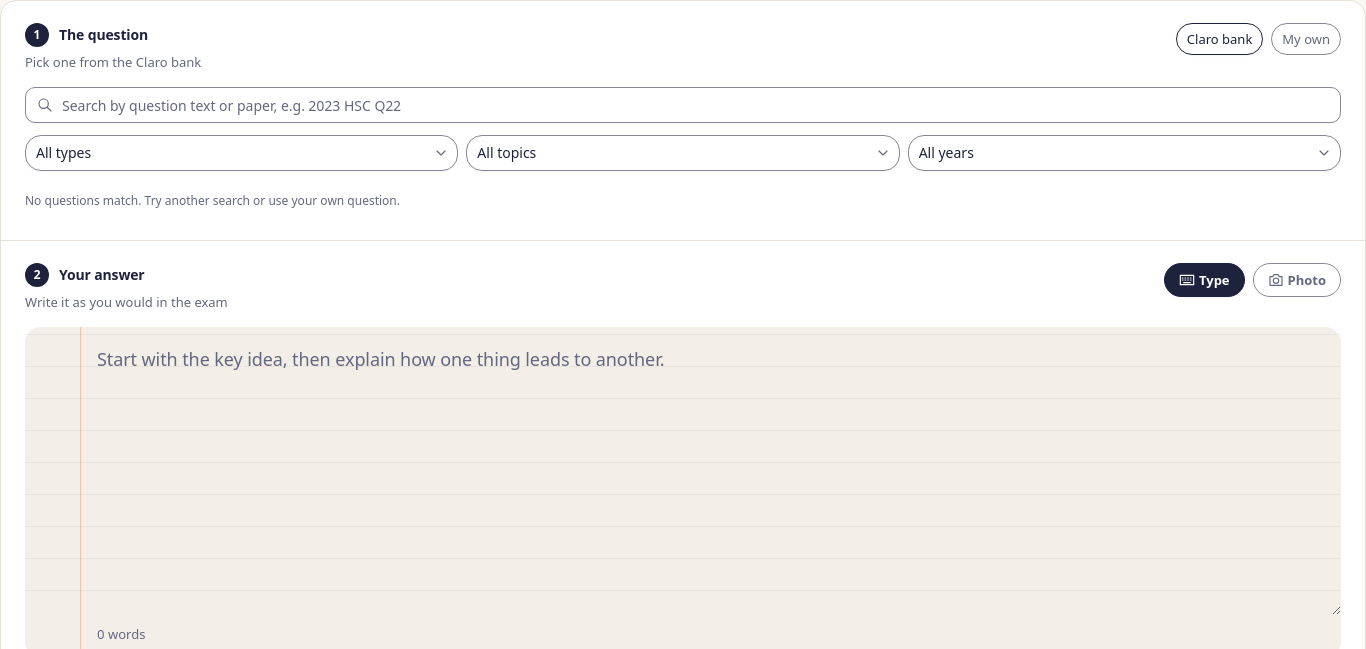
Test: preserves guidelines edited during a pending autofill
Click the button with aria-label "My own question" at x=1306, y=39, box [1271,23,1341,55]
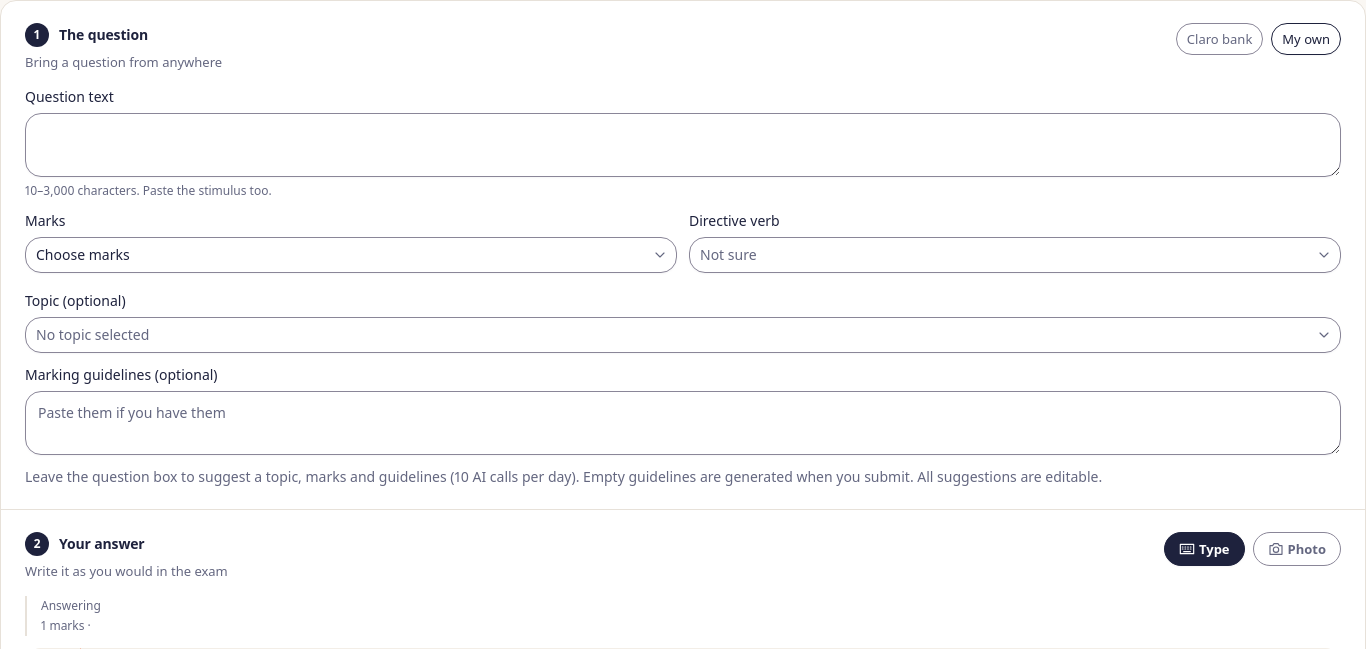
Type "Explain inflation." into the text box labelled "Question text 10–3,000 characters. Paste the stimulus too." at x=683, y=145, box [25,113,1341,177]
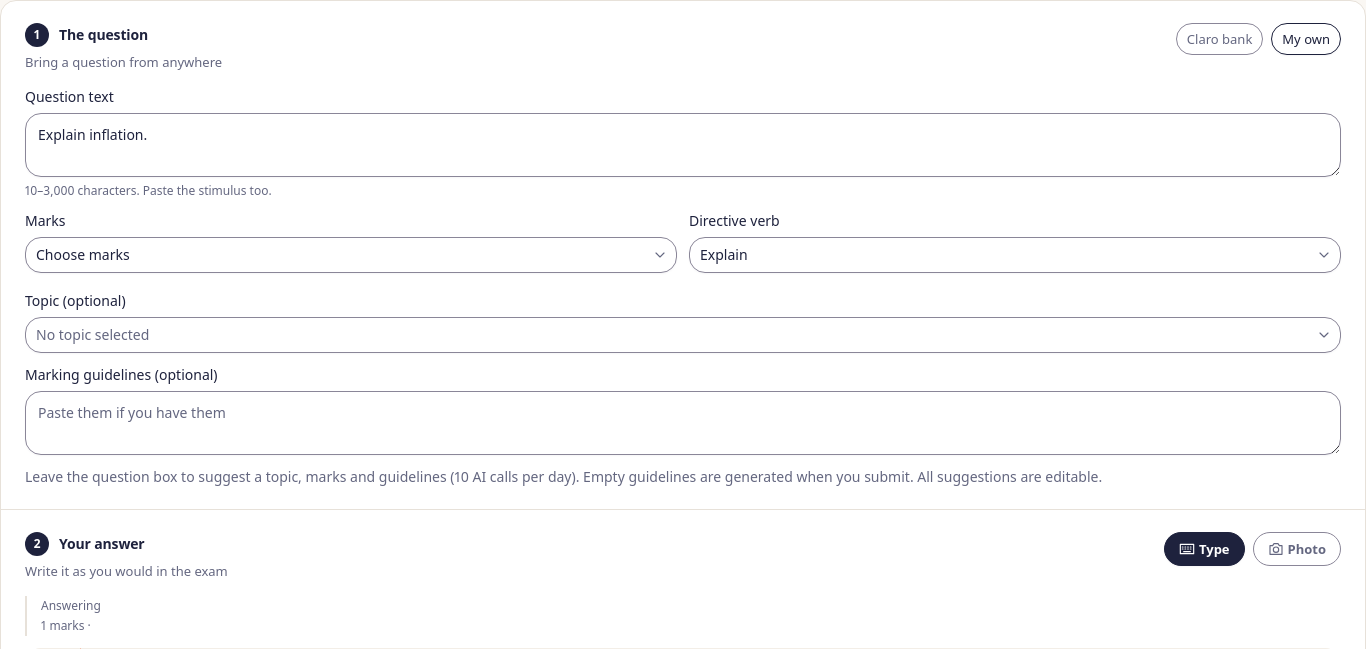
Replace the text in the text box labelled "Question text 10–3,000 characters. Paste the stimulus too." with "Assess monetary policy." at x=683, y=145, box [25,113,1341,177]
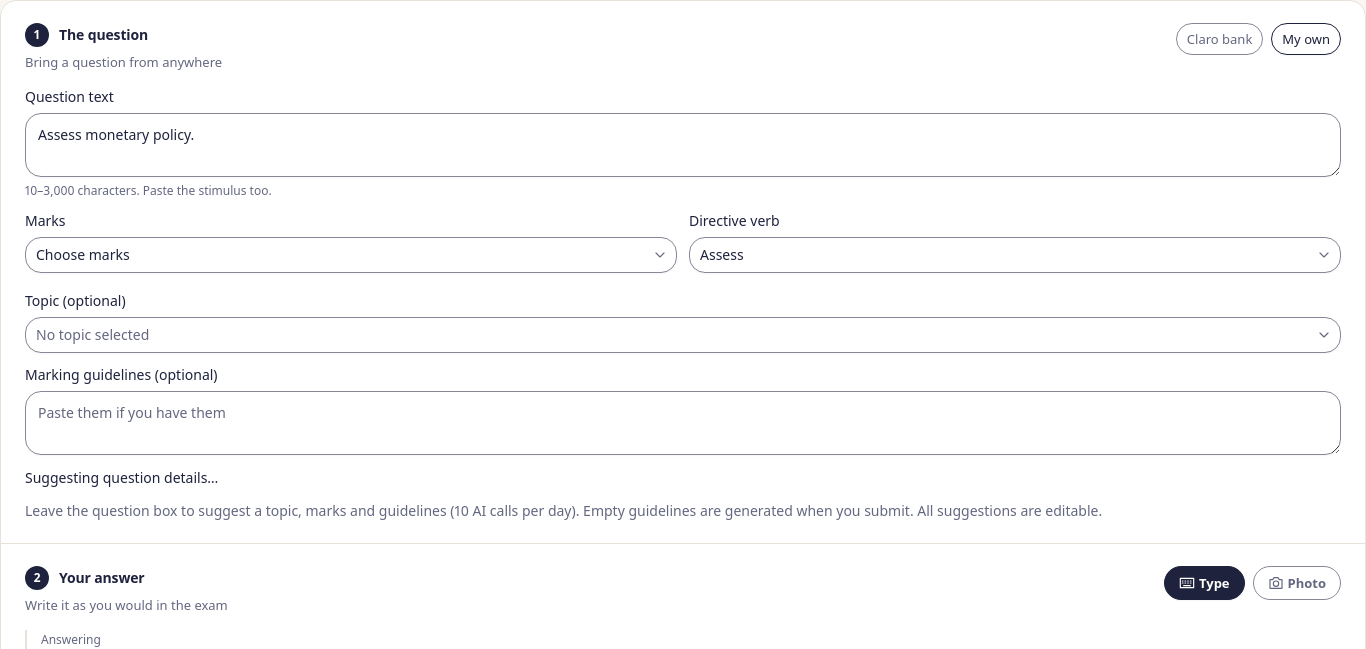
Type "My own guidelines" into the text box labelled "Marking guidelines (optional)" at x=683, y=423, box [25,391,1341,455]
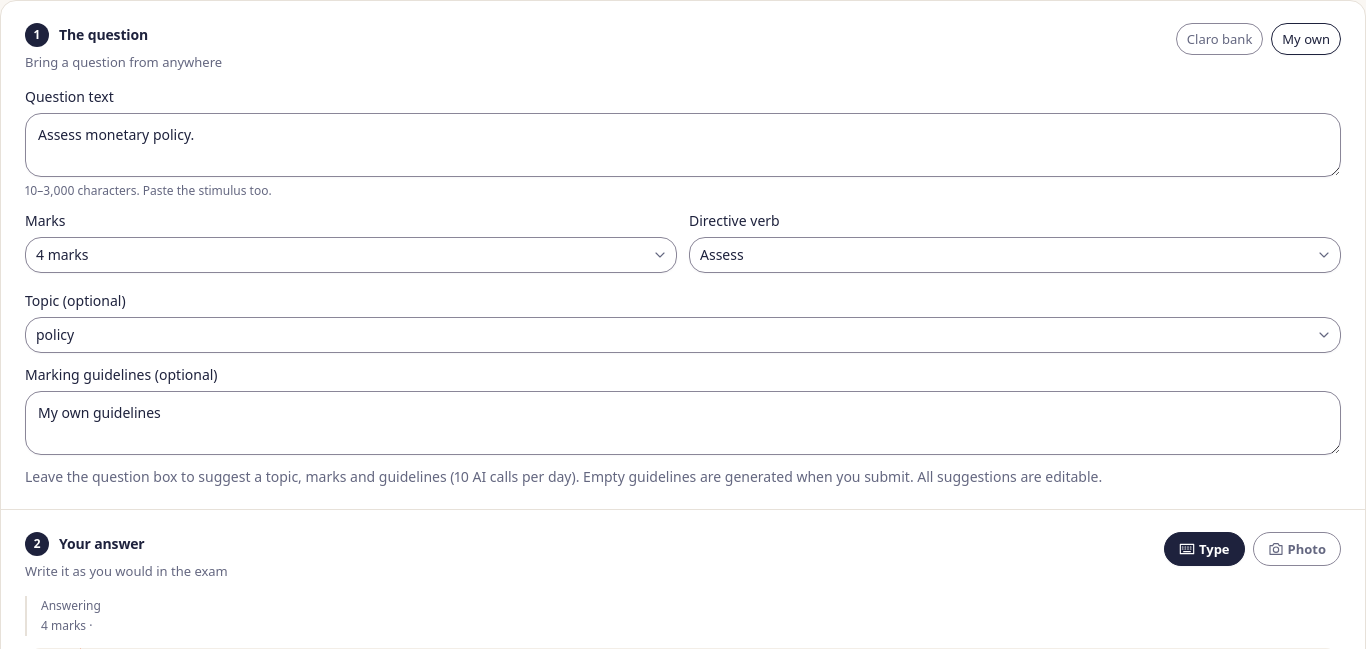
Expected: the text "Suggesting question details…" is gone
